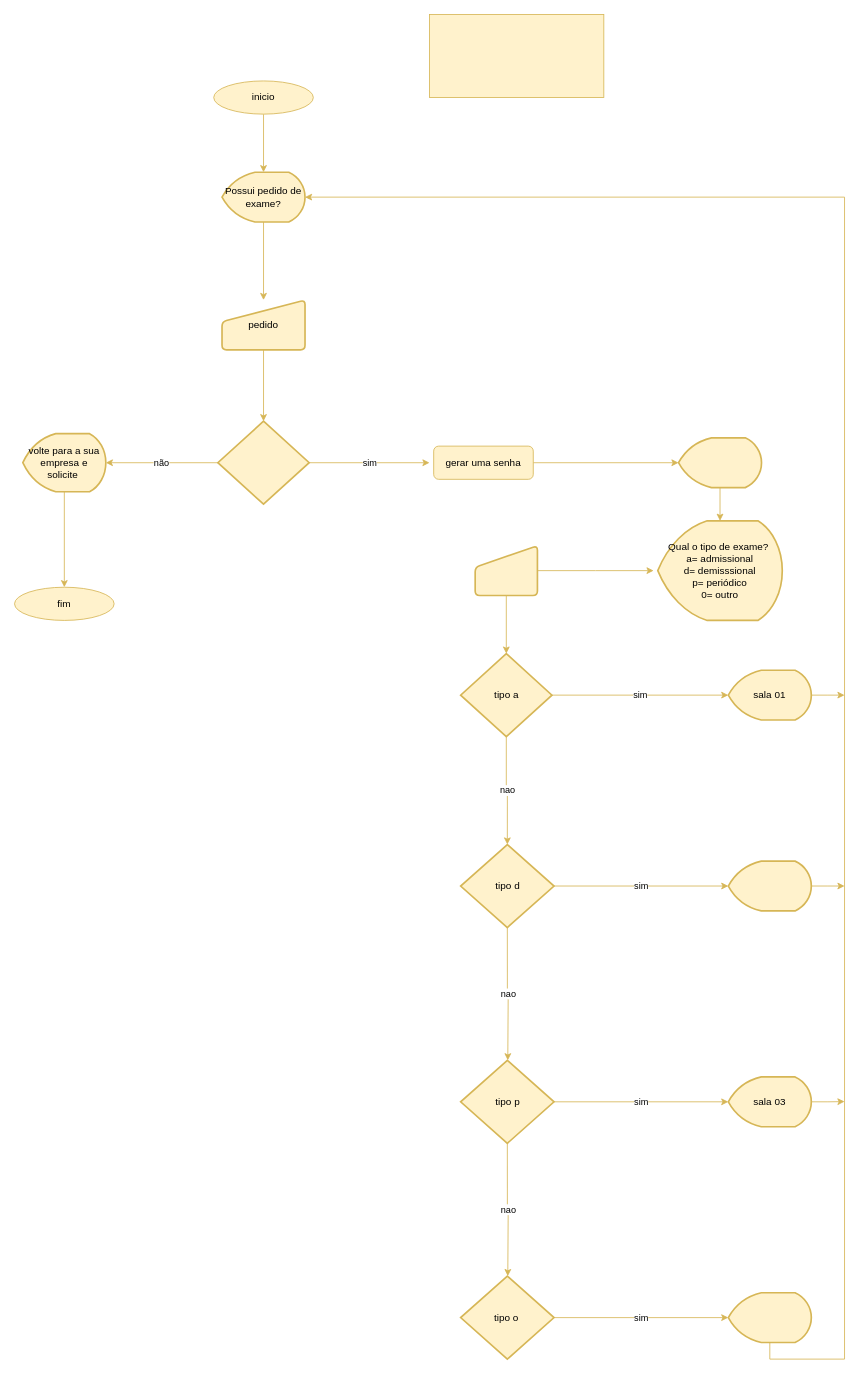
The diagram is 866 pixels wide and 1380 high, and some of its shapes have lost their labels. Here are the shapes that lost their labels. From the top down, the box of each, then its label:
(429, 14, 604, 98): Fluxograma- Triagem/ recepção
(217, 420, 310, 505): pedido== "s"
(677, 437, 762, 488): Entregar/ Mostrar a senha ao paciente
(474, 544, 538, 596): tipo
(727, 860, 812, 911): sala 02
(727, 1291, 812, 1343): sala 04
